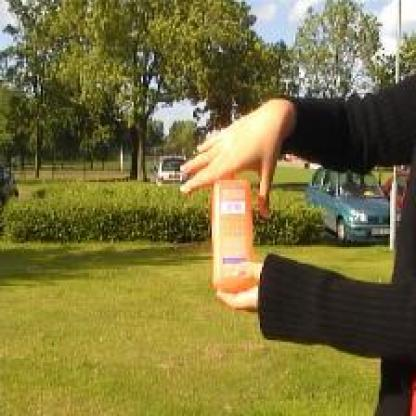other: (193, 166, 261, 286)
